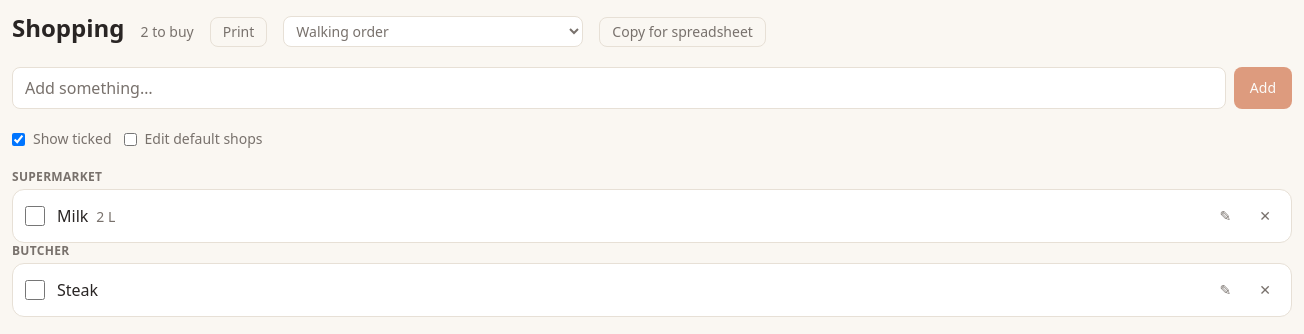
Test: ShoppingListPage copy for spreadsheet › copies name/amount as tab-separated lines, grouped in on-screen order
Click the button "Copy for spreadsheet".
click(683, 32)  # box [599,17,766,47]
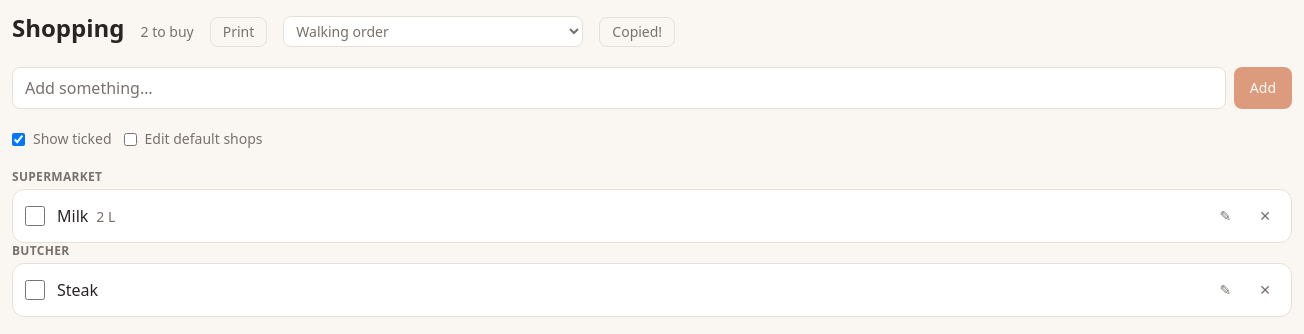
Now the button "Copied!" is shown, box [599,17,675,47]
